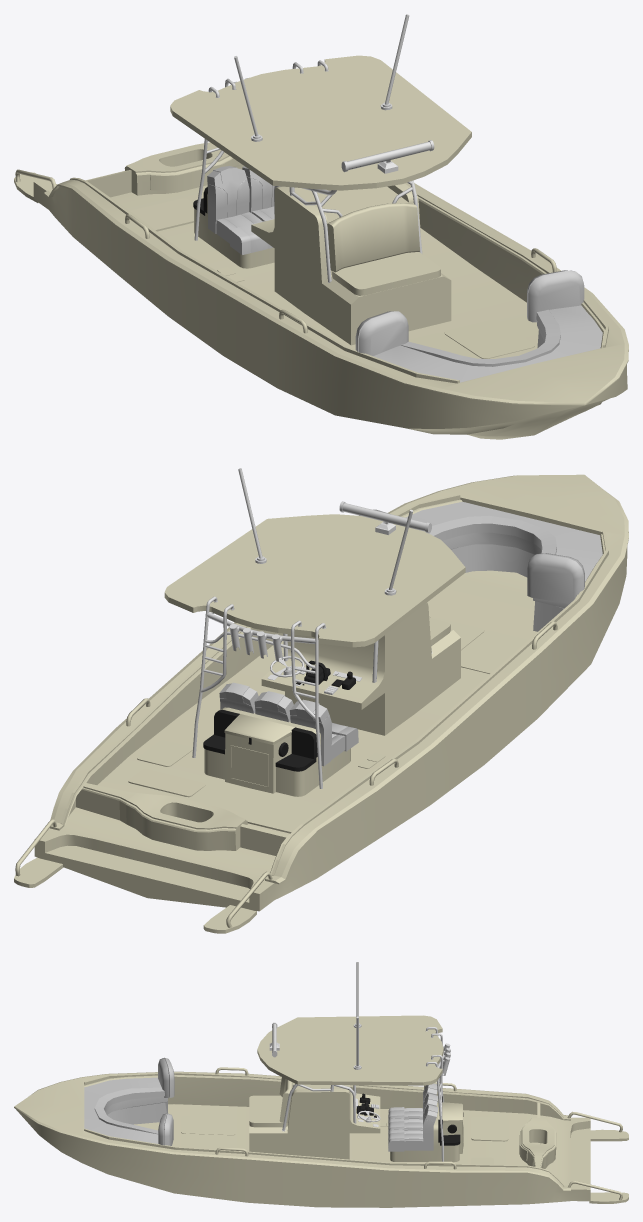
Rendered from center-console.glb.
3 views of the same model, one above another, from view 1: azimuth 30°, elevation 25°; view 2: azimuth 150°, elevation 25°; view 3: azimuth 270°, elevation 25° (orthographic). The views are drawn at different scales.
Visible parts, largest first — view 1: Hull, TTOP, CentreConsole, BowDeck, BowSeating, CockpitDeck, AftSeating, HelmSeating/LeaningPost; view 2: Hull, TTOP, BowDeck, CentreConsole, CockpitDeck, BowSeating, HelmSeating/LeaningPost, AftSeating, TransomPlatform, Helm; view 3: Hull, TTOP, BowDeck, CentreConsole, BowSeating, CockpitDeck, AftSeating, HelmSeating/LeaningPost, TransomPlatform, Helm.
Boxes of the visible parts, bbox=[...] form: Hull: bbox=[33, 171, 627, 439]; TTOP: bbox=[170, 14, 471, 282]; CentreConsole: bbox=[251, 183, 451, 345]; BowDeck: bbox=[44, 177, 628, 405]; BowSeating: bbox=[355, 270, 602, 382]; CockpitDeck: bbox=[15, 142, 241, 197]; AftSeating: bbox=[207, 166, 289, 255]; HelmSeating/LeaningPost: bbox=[193, 164, 274, 268]; Hull: bbox=[34, 547, 627, 911]; TTOP: bbox=[164, 468, 465, 788]; BowDeck: bbox=[49, 474, 628, 884]; CentreConsole: bbox=[261, 602, 460, 735]; CockpitDeck: bbox=[15, 783, 288, 927]; BowSeating: bbox=[359, 502, 602, 631]; HelmSeating/LeaningPost: bbox=[203, 707, 350, 796]; AftSeating: bbox=[219, 682, 358, 766]; TransomPlatform: bbox=[14, 857, 256, 933]; Helm: bbox=[267, 656, 361, 694]; Hull: bbox=[16, 1067, 590, 1207]; TTOP: bbox=[257, 962, 450, 1161]; BowDeck: bbox=[14, 1071, 570, 1191]; CentreConsole: bbox=[249, 1077, 380, 1159]; BowSeating: bbox=[84, 1057, 174, 1145]; CockpitDeck: bbox=[519, 1102, 622, 1200]; AftSeating: bbox=[388, 1083, 437, 1151]; HelmSeating/LeaningPost: bbox=[390, 1096, 463, 1162]; TransomPlatform: bbox=[589, 1129, 628, 1203]; Helm: bbox=[355, 1093, 380, 1126].
Size of the model in its own units: 3.97 by 3.98 by 12.02.
